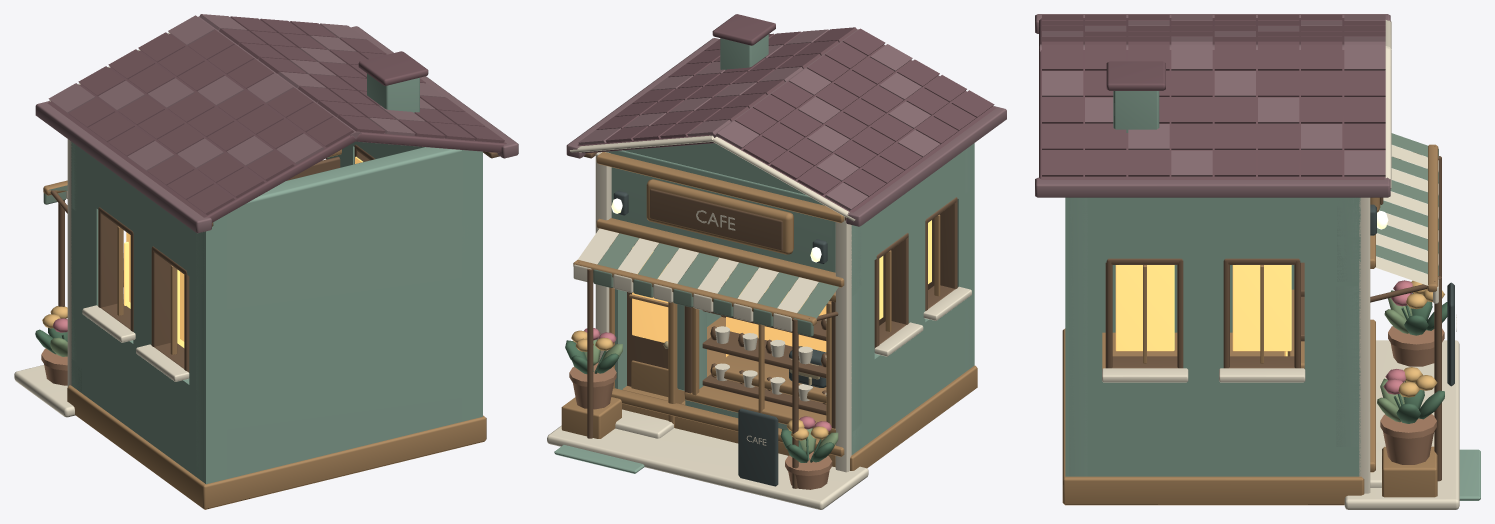
The model's file is cafe.glb.
The picture shows the model from 3 angles, left to right: view 1: azimuth 30°, elevation 25°; view 2: azimuth 150°, elevation 25°; view 3: azimuth 270°, elevation 25°; orthographic projection. The views are drawn at different scales.
Parts seen in each view (by area): view 1: Rear masonry, Side base masonry, Stone plinth, Side upper masonry, Thick sloping roof slab, Deep overhanging eave, Side window masonry pier.002, Side window masonry pier, Side window masonry pier.005, Side upper masonry.001, Side window masonry pier.001, Side base masonry.001 (+55 smaller); view 2: Side base masonry, Broad stone doorstep, Upper front lintel, Side upper masonry, Stone plinth, Corner pilaster, Bakery sign inset, Facade cornice.002, Facade cornice.001, Deep overhanging eave, Coffee menu board, Front gable (+100 smaller); view 3: Side base masonry.001, Side upper masonry.001, Stone plinth, Side window masonry pier.003, Deep overhanging eave.001, Broad stone doorstep, Rear masonry, Thick sloping roof slab.001, Recessed side amber pane.002, Recessed side amber pane.003, Side window masonry pier.004, Front masonry pier.002 (+74 smaller).
Part boxes in pixels (<box>): Rear masonry: <box>196,147,479,482</box>; Side base masonry: <box>71,299,226,484</box>; Stone plinth: <box>67,385,486,509</box>; Side upper masonry: <box>71,142,226,288</box>; Thick sloping roof slab: <box>47,33,356,222</box>; Deep overhanging eave: <box>35,101,211,233</box>; Side window masonry pier.002: <box>189,276,226,397</box>; Side window masonry pier: <box>71,190,98,307</box>; Side window masonry pier.005: <box>462,221,482,334</box>; Side upper masonry.001: <box>351,141,482,225</box>; Side window masonry pier.001: <box>133,236,151,347</box>; Side base masonry.001: <box>462,330,482,421</box>; Side base masonry: <box>851,286,974,454</box>; Broad stone doorstep: <box>547,425,868,509</box>; Upper front lintel: <box>610,150,861,290</box>; Side upper masonry: <box>832,143,974,276</box>; Stone plinth: <box>622,365,977,470</box>; Corner pilaster: <box>835,217,851,472</box>; Bakery sign inset: <box>650,189,782,250</box>; Facade cornice.002: <box>596,152,844,222</box>; Facade cornice.001: <box>596,218,844,287</box>; Deep overhanging eave: <box>846,106,1006,226</box>; Coffee menu board: <box>738,408,778,486</box>; Front gable: <box>623,143,805,194</box>; Side base masonry.001: <box>1065,381,1360,476</box>; Side upper masonry.001: <box>1065,197,1360,262</box>; Stone plinth: <box>1062,328,1364,505</box>; Side window masonry pier.003: <box>1304,262,1360,381</box>; Deep overhanging eave.001: <box>1035,177,1390,197</box>; Broad stone doorstep: <box>1344,340,1459,509</box>; Rear masonry: <box>1069,197,1087,476</box>; Thick sloping roof slab.001: <box>1039,50,1385,179</box>; Recessed side amber pane.002: <box>1232,265,1291,351</box>; Recessed side amber pane.003: <box>1115,265,1174,351</box>; Side window masonry pier.004: <box>1183,262,1223,381</box>; Front masonry pier.002: <box>1336,286,1358,446</box>.
Bounding box in the file's own units: 3.73 × 4.05 × 4.07.
